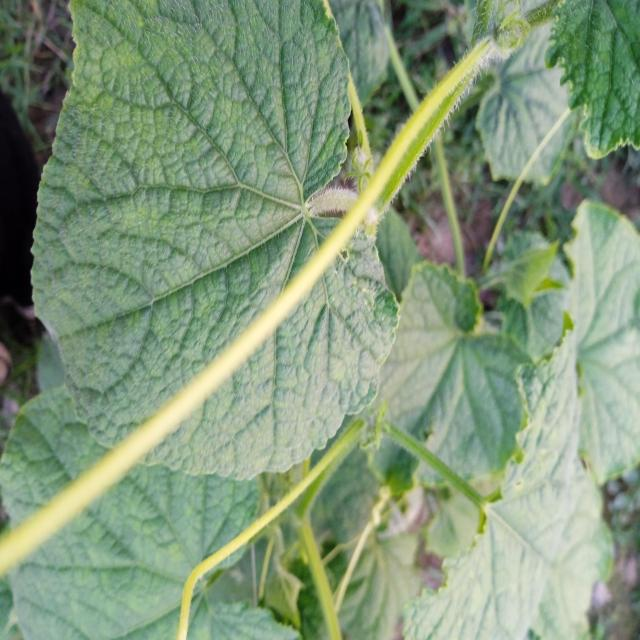cucumber_healthy: (27, 0, 405, 483), (0, 391, 303, 640), (394, 252, 538, 498), (559, 188, 640, 488), (541, 0, 640, 165)
